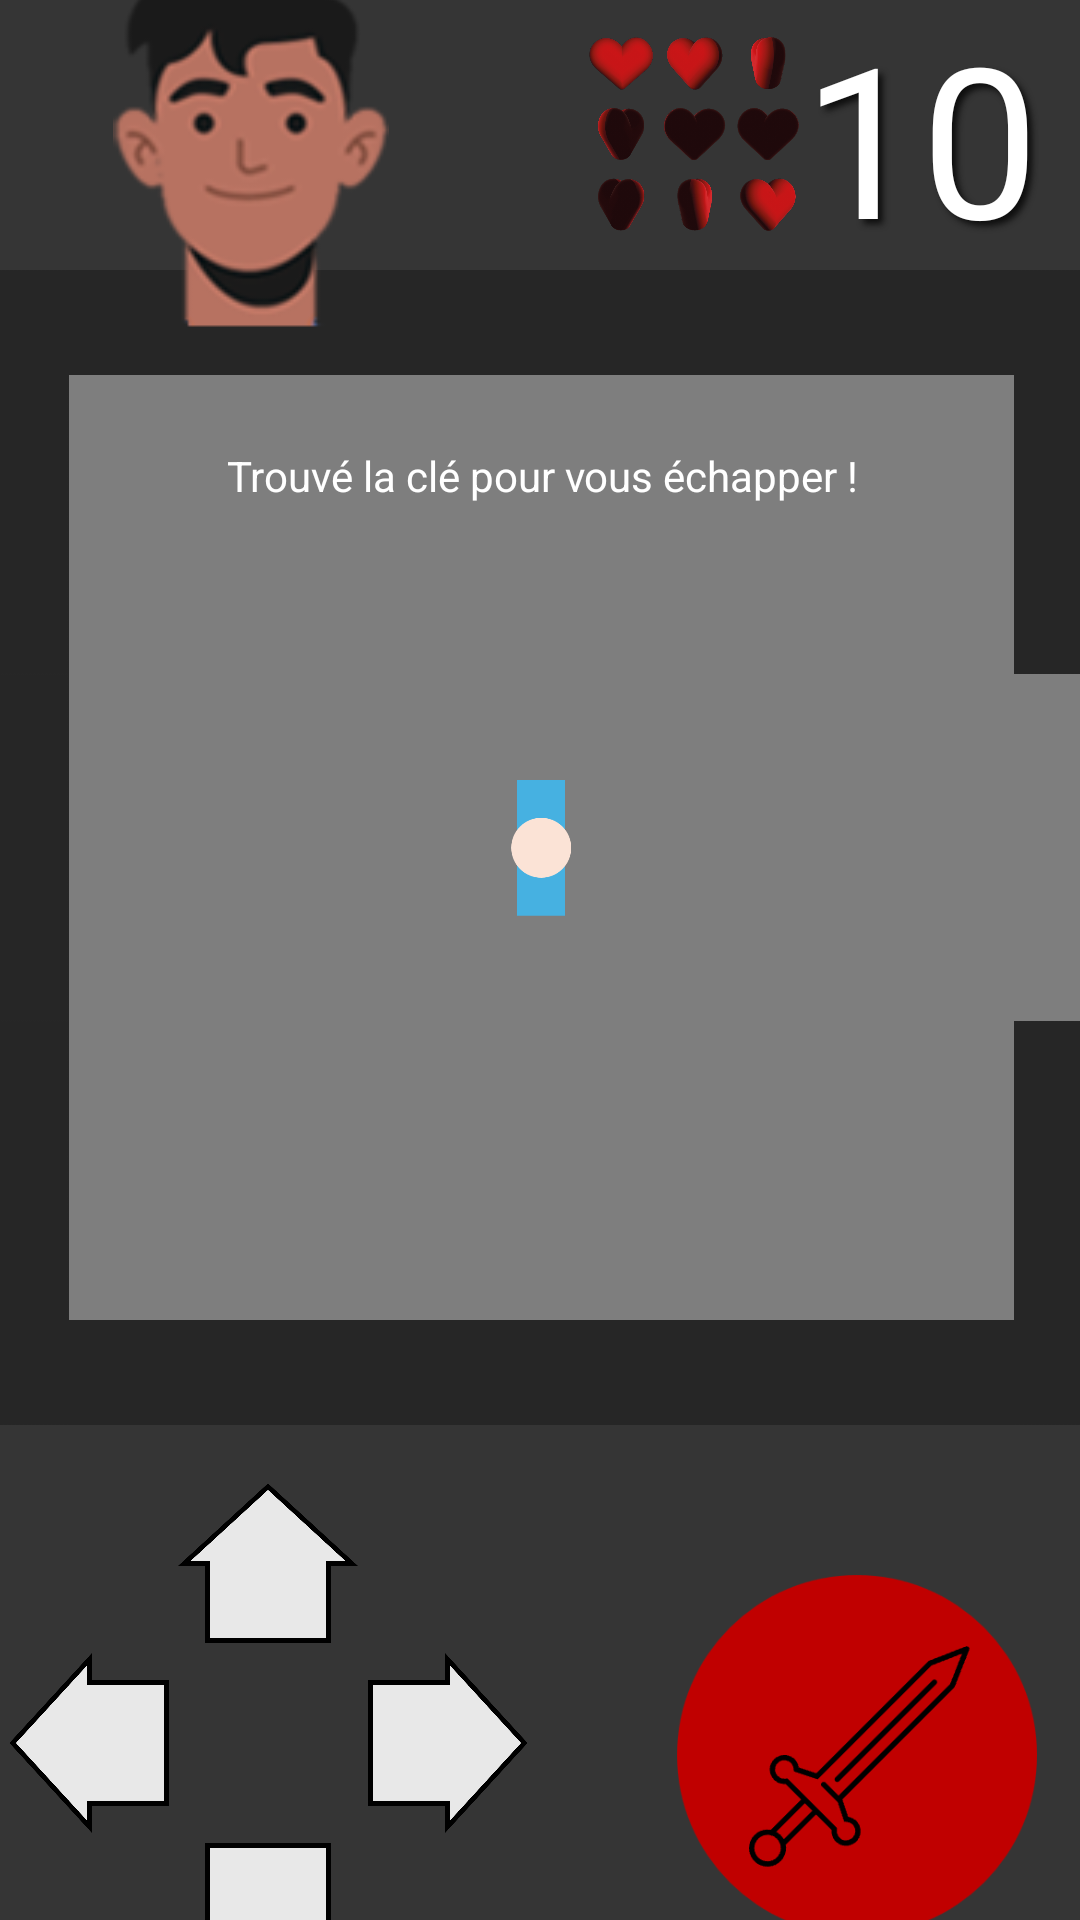

Point at icon controls on the screen. Image size 1080 × 1920, points as point (x, y).
attaque: point (857, 1747)
coeur: point (694, 134)
